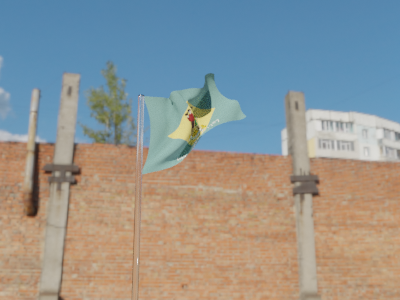Delaware flag: (143, 73, 247, 176)
